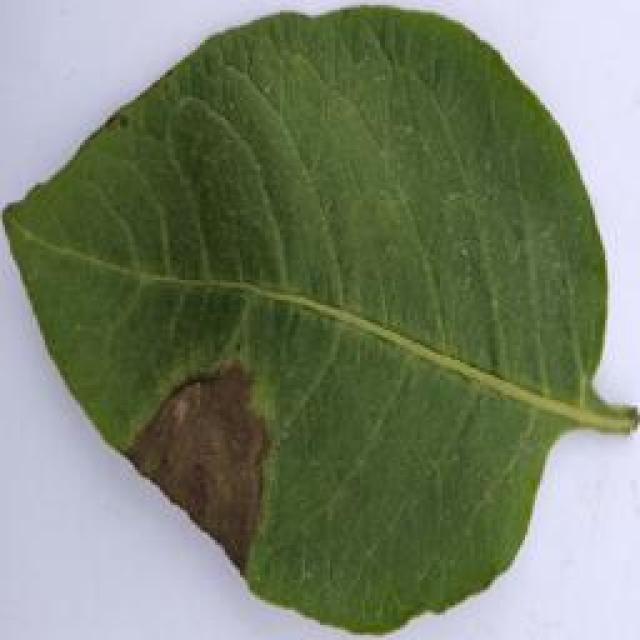Potato_Late_Blight: (4, 7, 624, 632)
